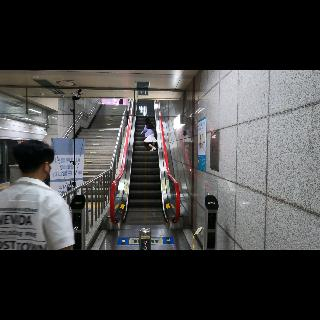anomaly: (140, 116, 158, 152)
normal: (0, 138, 80, 250)
